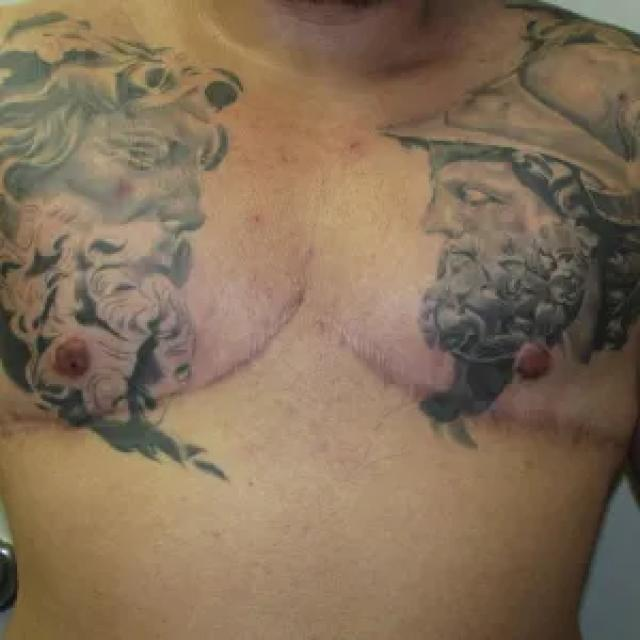Seno herido: (324, 143, 640, 459), (2, 146, 307, 463)
